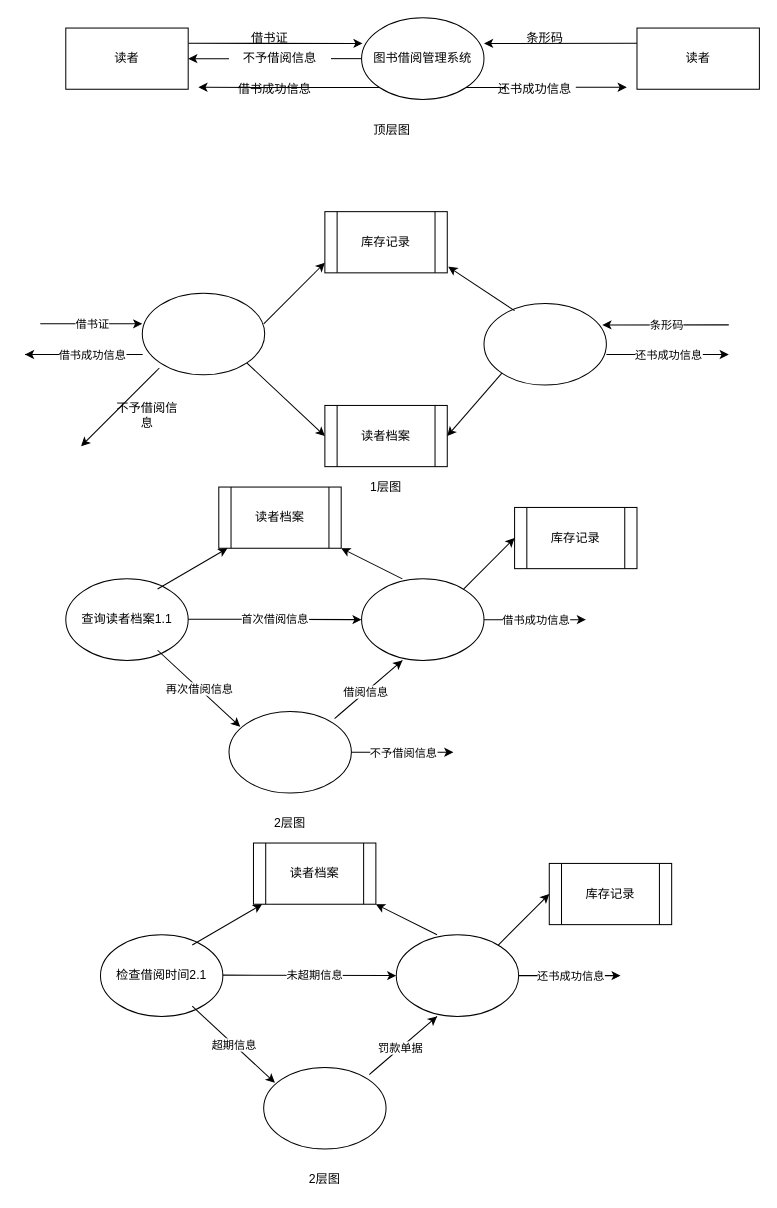
This 777x1208 diagram has some shape labels left out. The box of each missing label's shape, as (x1, y1, x2, y2) in pixels:
借书处理1: (141, 292, 265, 375)
办理借阅手续1.3: (361, 578, 484, 660)
办理还书手续2.3: (395, 934, 519, 1016)
检查借书数量1.2: (228, 710, 351, 793)
罚款处理2.2: (263, 1066, 386, 1149)
还书处理2: (483, 302, 606, 385)
